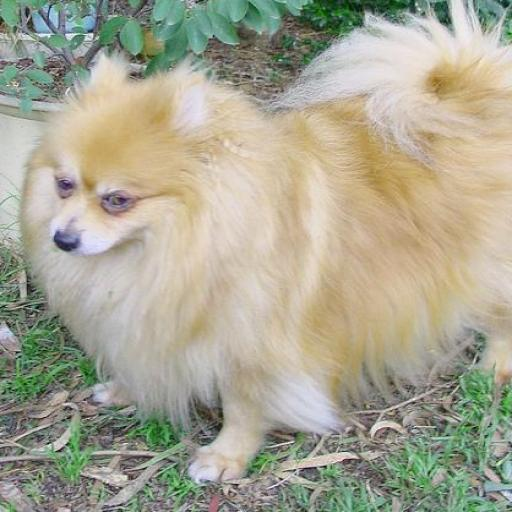dog_face: (29, 74, 176, 258)
